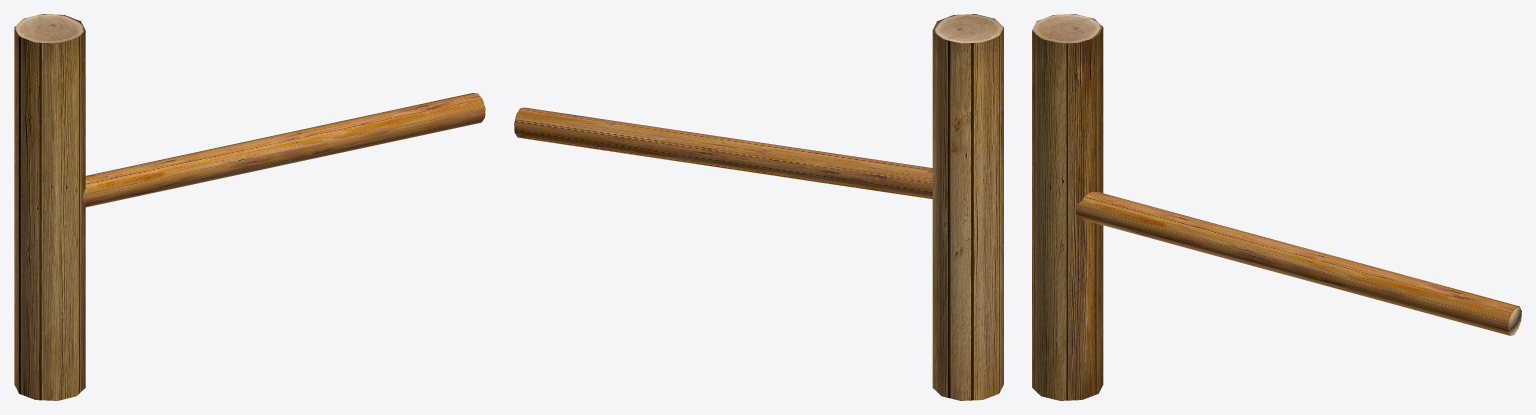
Rendered from Obj06_Fence.fbx.
3 renders of one model, left to right at view 1: azimuth 30°, elevation 25°; view 2: azimuth 150°, elevation 25°; view 3: azimuth 330°, elevation 25°, orthographic.
Visible parts, largest first — view 1: Obj06_Fence; view 2: Obj06_Fence; view 3: Obj06_Fence.
Part boxes in pixels (left/top/right/bottom): Obj06_Fence: left=14, top=14, right=485, bottom=400; Obj06_Fence: left=514, top=14, right=1003, bottom=400; Obj06_Fence: left=1032, top=14, right=1521, bottom=400.
Bounding box in the file's own units: 1.03 × 0.7501 × 0.1314.
